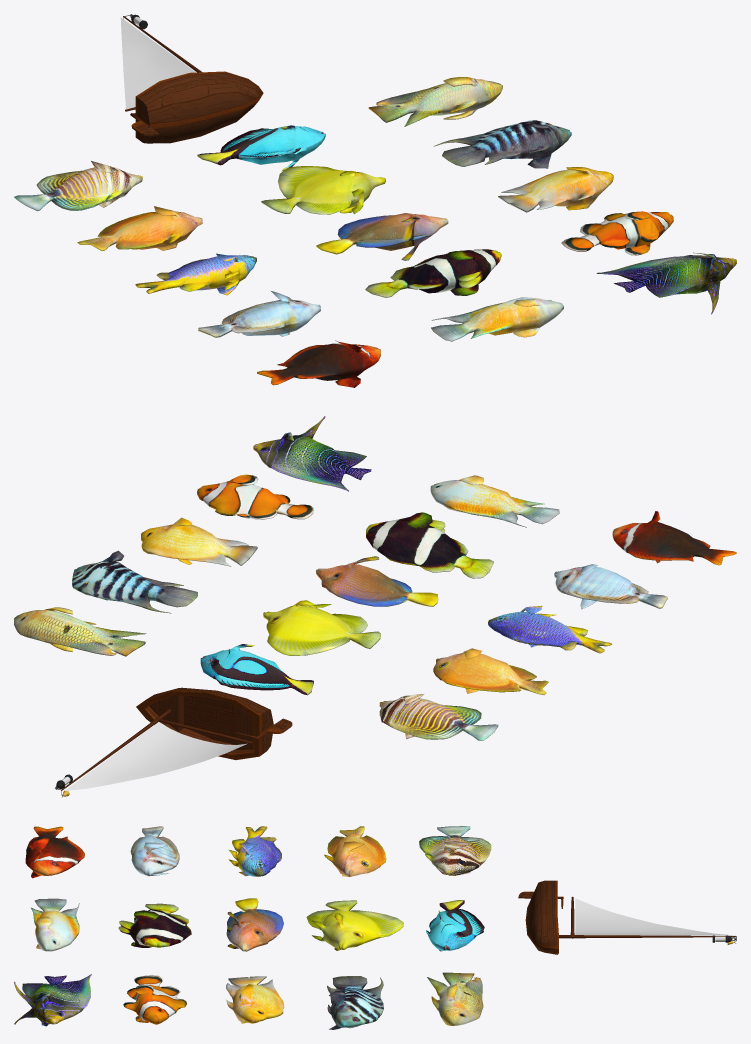
File: feesh-compressed.glb
3 renders of one model, top to bottom at view 1: azimuth 30°, elevation 25°; view 2: azimuth 150°, elevation 25°; view 3: azimuth 270°, elevation 25°, orthographic. The views are drawn at different scales.
Parts seen in each view (by area): view 1: boaty, TropicalFi.004, TropicalFi.005, TropicalFi.014, TropicalFi.010, TropicalFi.002, TropicalFi, TropicalFi.013, TropicalFi.012, TropicalFi.007, TropicalFi.008, TropicalFi.001 (+5 smaller); view 2: boaty, mainsail, TropicalFi.010, TropicalFi.004, TropicalFi.014, TropicalFi.005, TropicalFi.002, TropicalFi, TropicalFi.013, TropicalFi.008, TropicalFi.007, TropicalFi.003 (+5 smaller); view 3: TropicalFi.004, TropicalFi.014, TropicalFi, mainsail, TropicalFi.005, TropicalFi.010, TropicalFi.002, TropicalFi.007, TropicalFi.008, TropicalFi.003, TropicalFi.012, boaty (+6 smaller).
Part boxes in pixels (left/top/right/bottom): boaty: left=135, top=71, right=263, bottom=143; TropicalFi.004: left=261, top=166, right=385, bottom=214; TropicalFi.005: left=433, top=120, right=571, bottom=168; TropicalFi.014: left=596, top=252, right=736, bottom=314; TropicalFi.010: left=365, top=249, right=501, bottom=297; TropicalFi.002: left=368, top=77, right=502, bottom=126; TropicalFi: left=14, top=161, right=142, bottom=211; TropicalFi.013: left=431, top=297, right=563, bottom=341; TropicalFi.012: left=257, top=340, right=380, bottom=387; TropicalFi.007: left=316, top=213, right=448, bottom=260; TropicalFi.008: left=498, top=167, right=613, bottom=212; TropicalFi.001: left=197, top=125, right=325, bottom=171; boaty: left=136, top=687, right=273, bottom=759; mainsail: left=65, top=722, right=247, bottom=790; TropicalFi.010: left=366, top=512, right=493, bottom=578; TropicalFi.004: left=263, top=600, right=380, bottom=655; TropicalFi.014: left=253, top=416, right=371, bottom=491; TropicalFi.005: left=72, top=550, right=197, bottom=613; TropicalFi.002: left=14, top=607, right=146, bottom=656; TropicalFi: left=379, top=694, right=498, bottom=740; TropicalFi.013: left=430, top=475, right=559, bottom=527; TropicalFi.008: left=141, top=517, right=257, bottom=566; TropicalFi.007: left=316, top=556, right=438, bottom=606; TropicalFi.003: left=433, top=648, right=548, bottom=694; TropicalFi.004: left=306, top=900, right=403, bottom=950; TropicalFi.014: left=14, top=974, right=91, bottom=1026; TropicalFi: left=419, top=826, right=491, bottom=875; mainsail: left=575, top=898, right=735, bottom=935; TropicalFi.005: left=327, top=976, right=383, bottom=1029; TropicalFi.010: left=118, top=903, right=191, bottom=947; TropicalFi.002: left=427, top=972, right=483, bottom=1025; TropicalFi.007: left=226, top=898, right=283, bottom=951; TropicalFi.008: left=226, top=976, right=284, bottom=1023; TropicalFi.003: left=324, top=826, right=386, bottom=876; TropicalFi.012: left=25, top=826, right=84, bottom=878; boaty: left=525, top=880, right=558, bottom=954.
Bounding box in the file's own units: 18.91 × 2.31 × 28.92.
Materials: 20 (16 with a texture image).
